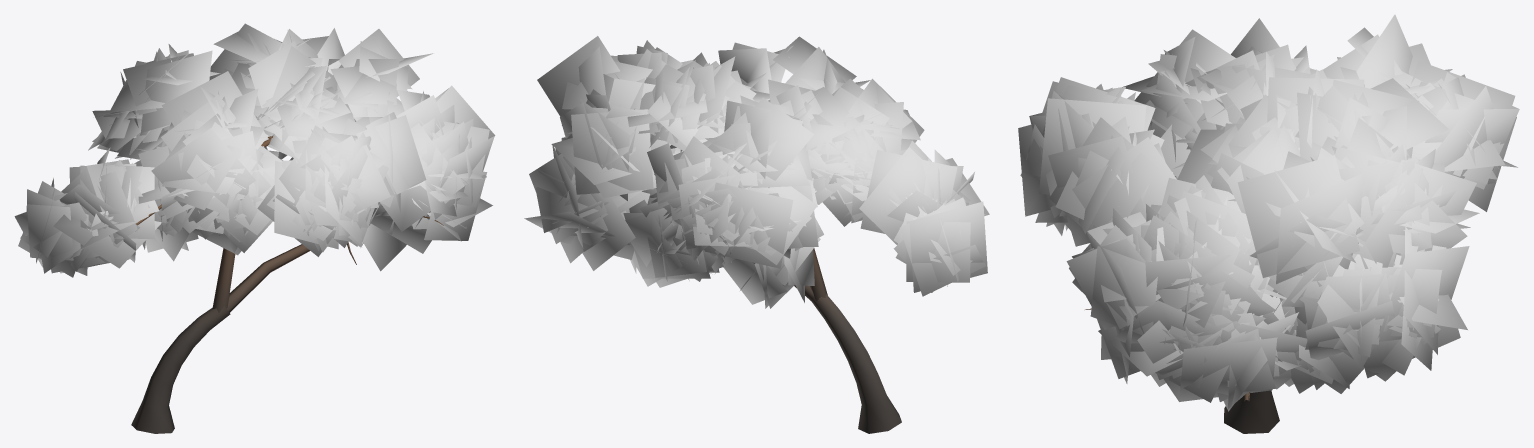
3 views of the same model, side by side, from view 1: azimuth 30°, elevation 25°; view 2: azimuth 150°, elevation 25°; view 3: azimuth 270°, elevation 25° (orthographic). The views are drawn at different scales.
Visible parts, largest first — view 1: crown, trunk; view 2: crown, trunk; view 3: crown, trunk.
Boxes of the visible parts, bbox=[...] form: crown: bbox=[14, 23, 495, 277]; trunk: bbox=[131, 135, 443, 433]; crown: bbox=[524, 36, 989, 308]; trunk: bbox=[794, 248, 901, 433]; crown: bbox=[1018, 14, 1519, 411]; trunk: bbox=[1085, 308, 1279, 433].
Bounding box in the file's own units: 12.68 × 9.55 × 9.78.
